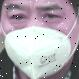with_mask: (1, 1, 79, 79)
